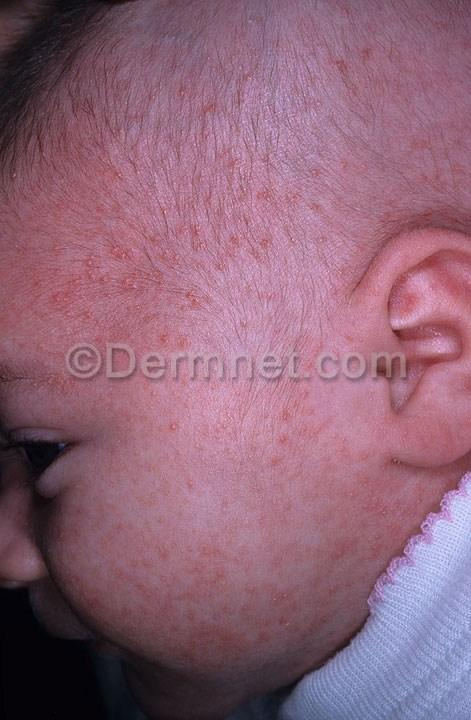edema 1: (0, 0, 470, 482), (40, 419, 418, 687)
xerosis 1: (266, 578, 313, 652)
